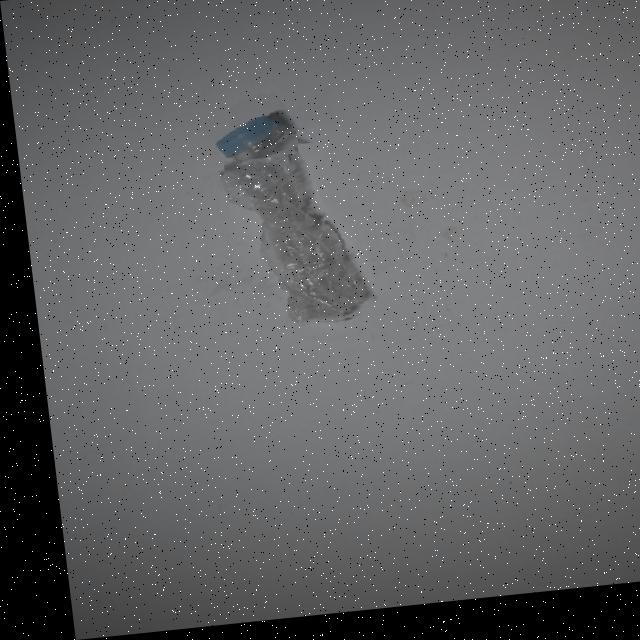litter: (219, 145, 370, 337), (200, 111, 294, 167)
